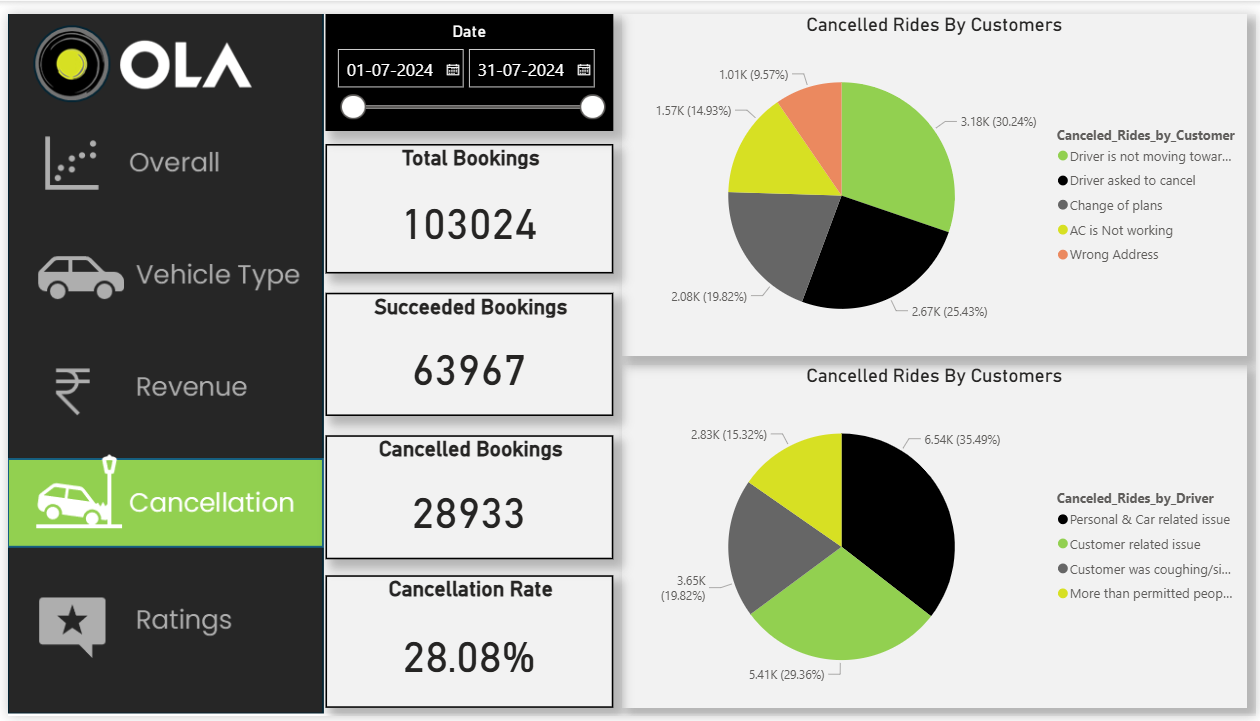

The page's visual inventory and layout, read from the dashboard file:
{"tool":"powerbi","page":{"name":"Cancellation","canvas":[1280,720],"ordinal":3},"visuals":[{"type":"actionButton","box":[0,224.4,325.7,94.1],"z":0},{"type":"actionButton","box":[0,109.8,325.7,90.5],"z":1000},{"type":"actionButton","box":[0,340.2,325.7,92.9],"z":2000},{"type":"actionButton","box":[0,454.8,325.7,86.9],"z":3000},{"type":"actionButton","box":[0,583.9,325.7,88.1],"z":4000},{"type":"pieChart","title":"Cancelled Rides By Customers","fields":{"Category":["July.Canceled_Rides_by_Customer"],"Y":["CountNonNull(July.Booking_Status)"]},"box":[630,0,641.2,351.2],"z":5000},{"type":"pieChart","title":"Cancelled Rides By Customers","fields":{"Category":["July.Canceled_Rides_by_Driver"],"Y":["CountNonNull(July.Booking_Status)"]},"box":[630,360,641.2,351.2],"z":6000},{"type":"card","title":"Total Bookings","fields":{"Values":["CountNonNull(July.Booking_ID)"]},"box":[326.2,133.8,295,132.5],"z":7000},{"type":"slicer","title":"Date","fields":{"Values":["July.Date"]},"box":[326.2,0,295,120],"z":8000},{"type":"card","title":"Succeeded Bookings","fields":{"Values":["CountNonNull(July.Booking_ID)"]},"box":[326.2,286.2,295,126.2],"z":9000},{"type":"card","title":"Cancelled Bookings","fields":{"Values":["CountNonNull(July.Booking_ID)"]},"box":[326.2,432.5,295,127.5],"z":10000},{"type":"card","title":"Cancellation Rate","fields":{"Values":["July.CancelledPercentage"]},"box":[326.2,575,295,136.2],"z":11000}]}

Visuals, with their boxes in screenshot pixels (x1, y1, x2, y2), scaled from the page's 1280x720 canvas onto the 1260x721 screenshot:
actionButton: 0:225:321:319
actionButton: 0:110:321:201
actionButton: 0:341:321:434
actionButton: 0:455:321:542
actionButton: 0:585:321:673
"Cancelled Rides By Customers" pieChart: 620:0:1251:352
"Cancelled Rides By Customers" pieChart: 620:360:1251:712
"Total Bookings" card: 321:134:611:267
"Date" slicer: 321:0:611:120
"Succeeded Bookings" card: 321:287:611:413
"Cancelled Bookings" card: 321:433:611:561
"Cancellation Rate" card: 321:576:611:712
